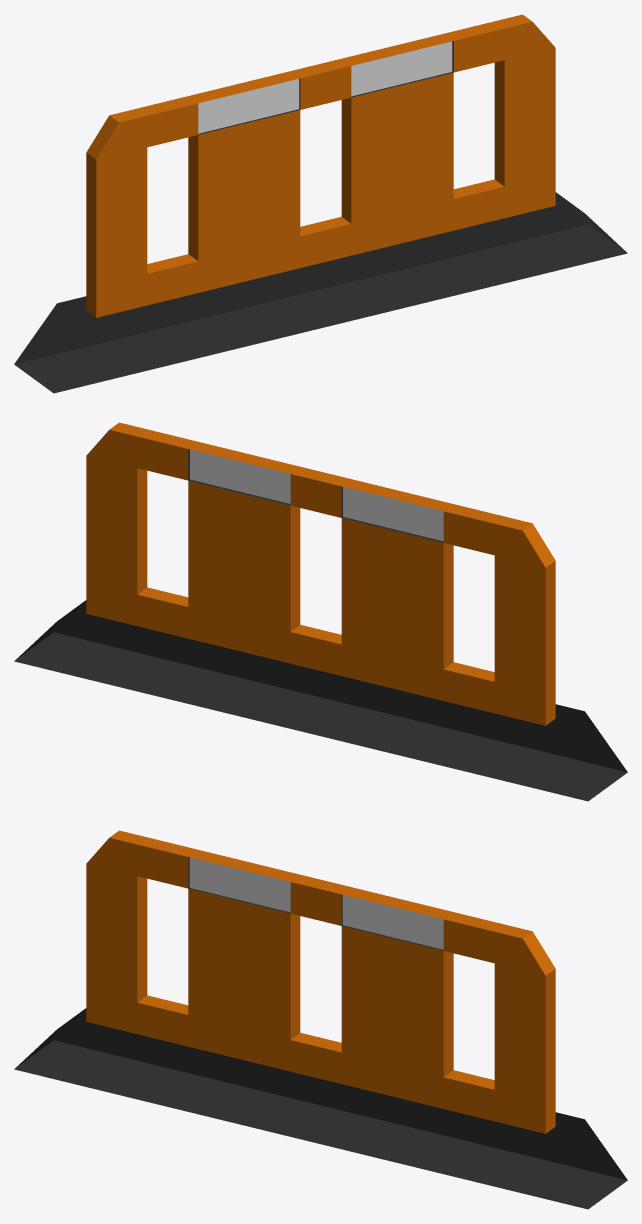
File: RoadworkBarrierV2Coloured.fbx
3 views of the same model, one above another, from view 1: azimuth 30°, elevation 25°; view 2: azimuth 150°, elevation 25°; view 3: azimuth 330°, elevation 25° (orthographic).
Visible parts, largest first — view 1: Cube.001; view 2: Cube.001; view 3: Cube.001.
Boxes of the visible parts, left/top/right/bottom form: Cube.001: left=14, top=14, right=627, bottom=393; Cube.001: left=14, top=422, right=627, bottom=801; Cube.001: left=14, top=830, right=627, bottom=1209.
Bounding box in the file's own units: 250 × 100 × 30.
